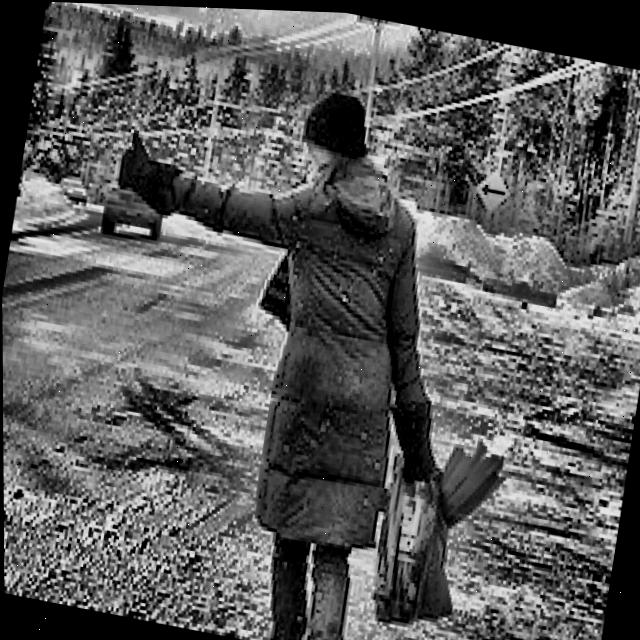light_vehicle: (100, 179, 167, 244), (54, 170, 93, 210)
